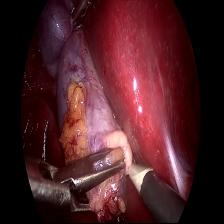Grasper: (21, 145, 129, 224), (66, 0, 94, 33)
Hook: (130, 146, 153, 201)
